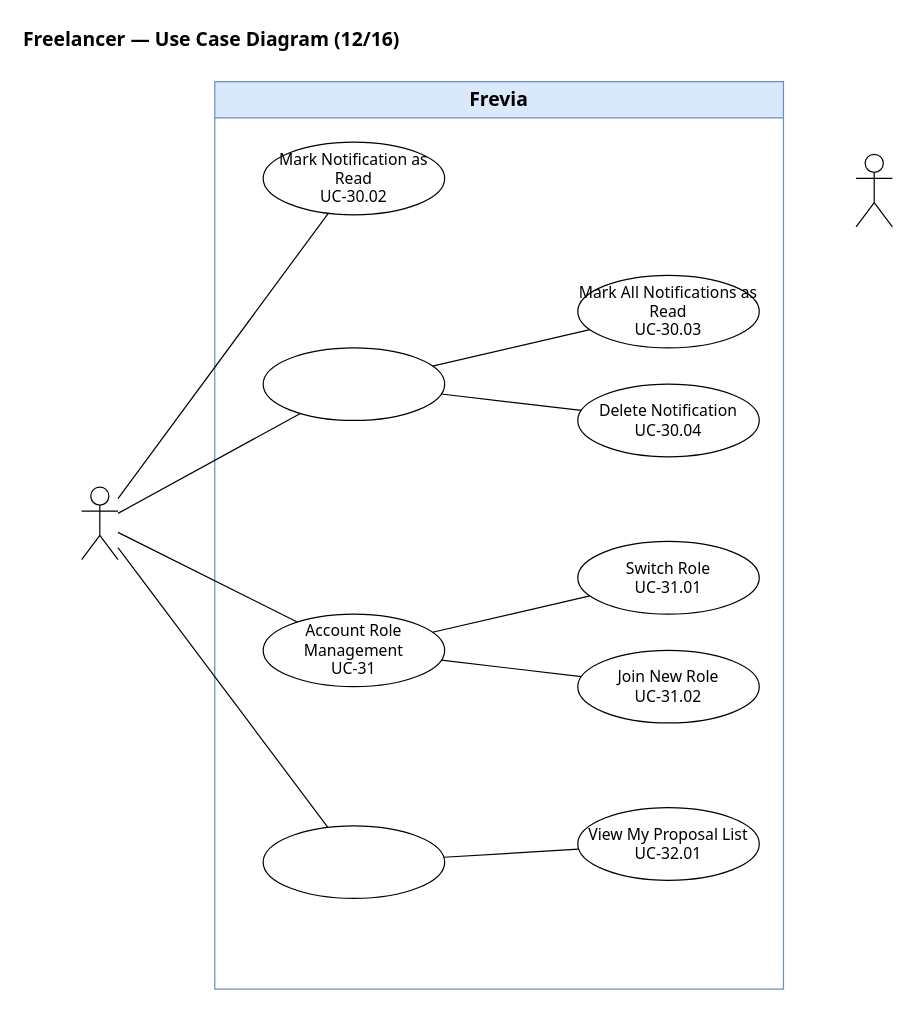
Image size: 920x1010. Some labels were removed from this diagram. Each missing label, with the centre of its shape:
"Freelancer" belongs at (99,523).
"Notification Management UC-30" belongs at (353,383).
"Proposal Management UC-32" belongs at (353,861).
"Stripe" belongs at (873,190).
